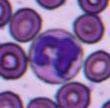N: (28, 28, 84, 84)
